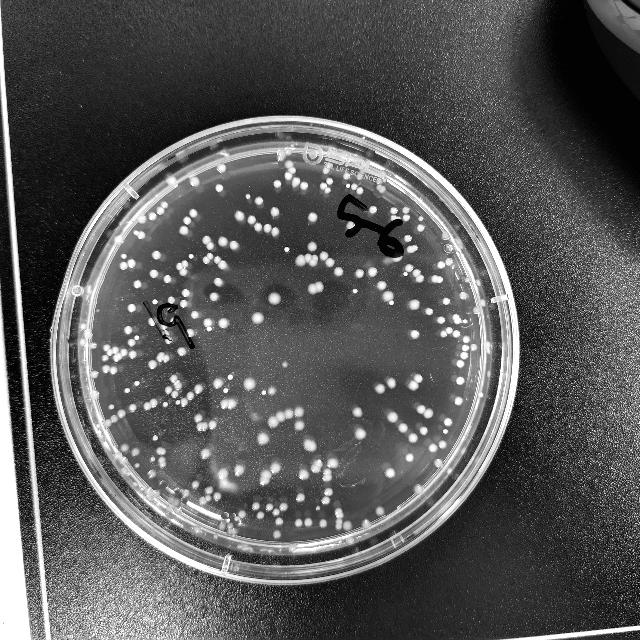colony: (303, 438, 317, 452), (354, 426, 368, 439), (244, 377, 256, 391), (268, 292, 282, 304), (387, 411, 399, 423), (267, 416, 279, 428), (257, 433, 269, 445), (270, 462, 282, 474), (218, 467, 230, 479), (252, 312, 264, 324), (382, 290, 394, 302), (326, 457, 338, 469), (298, 468, 310, 479), (233, 464, 244, 476), (352, 407, 363, 418), (374, 384, 386, 394), (294, 421, 306, 431), (384, 467, 396, 477), (310, 464, 322, 474), (212, 378, 224, 388), (234, 210, 244, 222), (190, 176, 200, 188), (295, 254, 305, 266), (308, 283, 318, 295), (410, 298, 420, 310), (408, 380, 419, 390), (294, 407, 304, 418), (284, 408, 294, 419), (200, 448, 210, 459), (219, 317, 229, 328), (260, 469, 272, 478), (398, 423, 408, 433), (387, 378, 397, 388), (416, 404, 426, 414), (423, 408, 433, 418), (304, 518, 314, 528), (342, 521, 352, 531), (296, 492, 306, 502), (413, 484, 423, 494), (208, 420, 218, 430), (148, 360, 158, 370), (308, 212, 318, 222), (216, 163, 226, 173), (167, 176, 177, 186), (308, 242, 318, 252), (334, 266, 344, 276), (325, 257, 335, 267), (367, 267, 377, 277), (258, 476, 270, 484), (408, 433, 418, 442), (218, 237, 228, 246), (410, 329, 420, 338), (433, 458, 442, 468), (120, 443, 130, 452), (228, 398, 236, 409), (91, 391, 99, 402), (85, 329, 94, 338), (420, 426, 428, 436), (414, 374, 424, 382), (276, 412, 284, 422), (319, 518, 327, 528), (376, 505, 384, 515), (406, 452, 414, 462), (268, 386, 276, 396), (314, 459, 324, 467), (218, 520, 226, 530), (220, 399, 228, 409), (194, 384, 202, 394), (210, 292, 218, 302), (218, 261, 228, 269), (202, 236, 212, 244), (230, 240, 238, 250), (254, 222, 262, 232), (189, 208, 197, 218), (270, 208, 280, 216), (292, 177, 300, 187), (284, 160, 294, 168), (304, 253, 312, 263), (316, 282, 324, 292), (153, 250, 161, 260), (115, 234, 123, 244), (128, 258, 136, 268), (114, 352, 122, 362), (182, 488, 190, 498), (323, 488, 332, 496), (322, 496, 331, 504), (362, 520, 371, 528), (239, 509, 247, 518), (214, 492, 222, 501), (194, 413, 202, 422), (187, 392, 195, 401), (181, 398, 189, 407), (178, 348, 186, 357), (248, 214, 256, 223), (378, 282, 387, 290), (456, 359, 464, 368), (429, 443, 437, 452), (138, 214, 146, 223), (148, 318, 156, 327), (118, 409, 126, 418), (132, 448, 140, 457), (173, 498, 181, 507), (166, 503, 174, 512), (322, 474, 332, 481), (188, 328, 195, 338), (295, 519, 303, 527), (280, 502, 288, 510), (272, 508, 280, 516), (275, 517, 283, 525), (273, 530, 281, 538), (257, 511, 265, 519), (346, 536, 354, 544), (288, 544, 296, 552), (204, 494, 212, 502), (205, 486, 213, 494), (192, 480, 200, 488), (170, 374, 178, 382), (204, 318, 212, 326), (180, 300, 188, 308), (182, 289, 190, 297), (214, 256, 222, 264), (214, 278, 222, 286), (206, 242, 214, 250), (264, 224, 272, 232), (183, 216, 191, 224), (180, 226, 188, 234), (157, 206, 165, 214), (149, 212, 157, 220), (161, 200, 169, 208), (215, 184, 223, 192), (255, 196, 263, 204), (300, 181, 308, 189), (284, 172, 292, 180), (274, 180, 282, 188), (288, 166, 296, 174), (278, 149, 286, 157), (319, 182, 327, 190), (369, 206, 377, 214), (390, 206, 398, 214), (402, 206, 410, 214), (402, 214, 410, 222), (417, 224, 425, 232), (404, 234, 412, 242), (320, 252, 328, 260), (356, 270, 364, 278), (405, 264, 413, 272), (413, 269, 421, 277), (416, 275, 424, 283), (442, 232, 450, 240), (445, 258, 453, 266), (442, 297, 450, 305), (440, 330, 448, 338), (452, 330, 460, 338), (460, 351, 468, 359), (456, 377, 464, 385), (455, 397, 463, 405), (444, 418, 452, 426), (439, 441, 447, 449), (120, 262, 128, 270), (133, 280, 141, 288), (150, 270, 158, 278), (168, 296, 176, 304), (128, 304, 136, 312), (124, 326, 132, 334), (128, 339, 136, 347), (120, 348, 128, 356), (112, 346, 120, 354), (102, 365, 110, 373), (110, 366, 118, 374), (80, 322, 88, 330), (90, 371, 98, 379), (144, 402, 152, 410), (150, 398, 158, 406), (104, 419, 112, 427), (148, 469, 156, 477), (120, 456, 128, 464), (174, 506, 182, 514), (393, 255, 403, 261), (169, 494, 175, 504), (266, 504, 274, 511), (200, 497, 207, 505), (165, 386, 172, 394), (175, 382, 182, 390), (180, 268, 187, 276), (203, 256, 210, 264), (326, 178, 334, 185), (344, 172, 351, 180), (356, 188, 364, 195), (356, 173, 364, 180), (378, 185, 386, 192), (407, 245, 415, 252), (459, 292, 466, 300), (470, 344, 478, 351), (163, 275, 170, 283), (165, 336, 172, 344), (152, 489, 160, 496), (323, 468, 332, 474), (202, 422, 208, 431), (335, 518, 343, 524), (335, 507, 343, 513), (336, 512, 344, 518), (282, 360, 288, 368), (194, 526, 202, 532), (232, 527, 238, 535), (196, 422, 202, 430), (172, 390, 178, 398), (164, 355, 170, 363), (156, 356, 164, 362), (192, 311, 198, 319), (177, 262, 183, 270), (182, 260, 188, 268), (272, 228, 278, 236), (277, 156, 285, 162), (286, 148, 292, 156), (347, 222, 355, 228), (309, 260, 317, 266), (432, 275, 438, 283), (437, 276, 443, 284), (438, 316, 444, 324), (446, 326, 452, 334), (454, 318, 462, 324), (473, 306, 479, 314), (462, 336, 470, 342), (462, 344, 468, 352), (138, 231, 144, 239), (160, 324, 168, 330), (130, 350, 136, 358), (107, 348, 113, 356), (104, 344, 110, 352), (103, 354, 109, 362), (90, 342, 96, 350), (80, 338, 86, 346), (110, 416, 118, 422), (158, 457, 166, 463), (145, 488, 153, 494), (147, 494, 153, 502), (156, 447, 162, 455), (325, 188, 331, 195), (351, 183, 357, 190), (130, 404, 136, 411), (160, 462, 167, 468), (115, 452, 122, 458), (336, 524, 342, 530), (227, 374, 233, 380), (207, 253, 213, 259), (284, 246, 290, 252), (323, 168, 329, 174), (326, 162, 332, 168), (376, 185, 382, 191), (418, 216, 424, 222), (313, 254, 319, 260), (352, 288, 358, 294), (412, 245, 418, 251), (438, 262, 444, 268), (426, 308, 432, 314), (453, 314, 459, 320), (480, 300, 486, 306), (478, 392, 484, 398), (484, 341, 490, 347), (447, 468, 453, 474), (134, 380, 140, 386), (134, 462, 140, 468), (121, 467, 127, 473), (160, 448, 166, 454), (477, 278, 481, 286), (462, 447, 466, 455), (88, 286, 92, 294), (262, 389, 266, 395), (214, 534, 218, 540), (235, 516, 239, 522), (227, 524, 233, 528), (228, 529, 232, 535), (224, 388, 228, 394), (162, 402, 168, 406), (159, 352, 165, 356), (206, 327, 212, 331), (188, 254, 194, 258), (392, 215, 396, 221), (390, 300, 394, 306), (442, 430, 448, 434), (134, 230, 138, 236), (122, 253, 126, 259), (152, 300, 158, 304), (134, 336, 140, 340), (164, 330, 170, 334), (124, 388, 130, 392), (96, 308, 100, 314), (110, 404, 114, 410), (152, 436, 158, 440), (151, 456, 155, 462), (132, 482, 138, 486), (96, 423, 100, 429), (85, 294, 89, 300), (486, 348, 489, 354), (316, 506, 320, 510), (176, 400, 180, 404), (246, 194, 250, 198), (346, 184, 350, 188), (383, 178, 387, 182), (403, 272, 407, 276), (463, 319, 467, 323), (466, 278, 470, 282), (488, 370, 490, 378), (126, 472, 130, 476), (177, 380, 180, 384), (318, 460, 322, 462), (290, 144, 294, 146), (174, 382, 176, 384)
